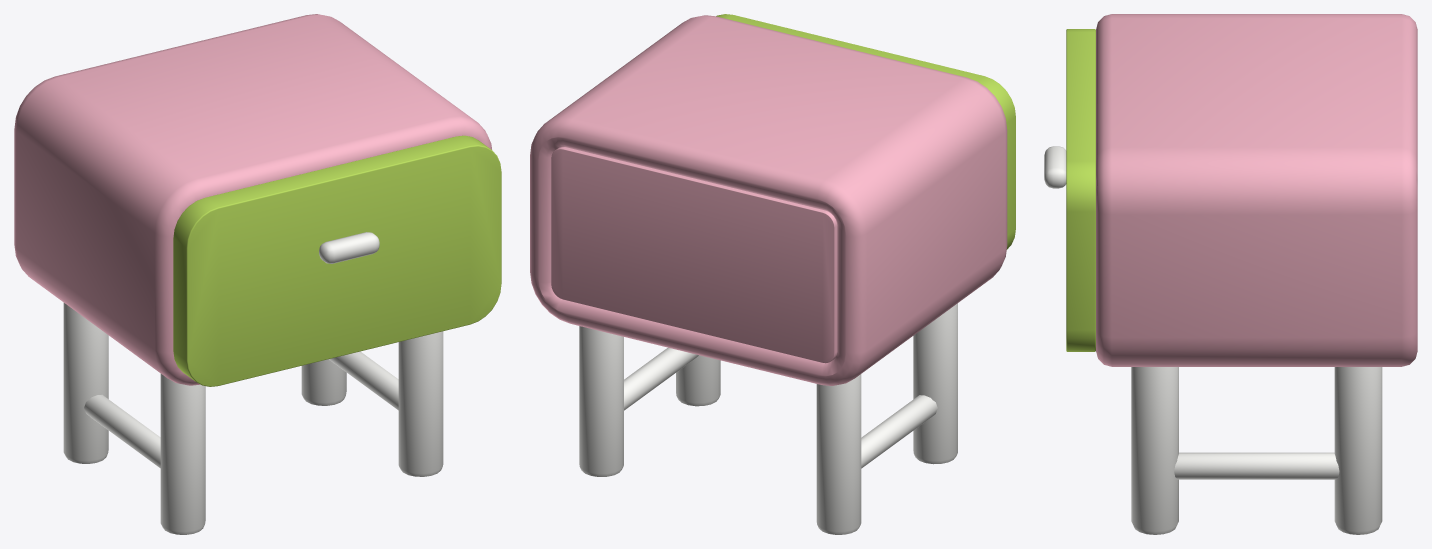
File: criado_gavetao_rosa.glb
The picture shows the model from 3 angles, left to right: view 1: azimuth 30°, elevation 25°; view 2: azimuth 150°, elevation 25°; view 3: azimuth 270°, elevation 25°; orthographic projection. The views are drawn at different scales.
Visible parts, largest first — view 1: criado_gavetao_rosa, gaveta_1; view 2: criado_gavetao_rosa, gaveta_1; view 3: criado_gavetao_rosa, gaveta_1.
Part boxes in pixels (box(x1,y1,x2,y2)): criado_gavetao_rosa: box(14, 14, 491, 534); gaveta_1: box(173, 135, 501, 386); criado_gavetao_rosa: box(530, 15, 1007, 534); gaveta_1: box(716, 14, 1015, 249); criado_gavetao_rosa: box(1096, 14, 1417, 534); gaveta_1: box(1044, 29, 1095, 351).
Bounding box in the file's own units: 0.48 × 0.5 × 0.441.
Materials: 1 (1 with a texture image).
